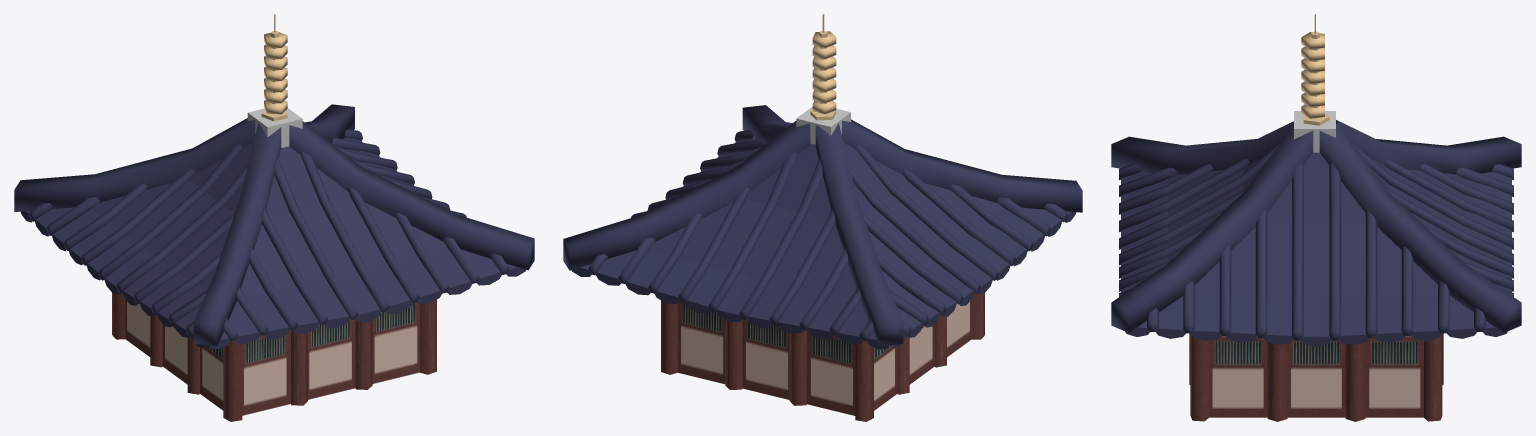
File: Building_Tower_Upper.fbx
3 renders of one model, left to right at view 1: azimuth 30°, elevation 25°; view 2: azimuth 150°, elevation 25°; view 3: azimuth 270°, elevation 25°, orthographic. The views are drawn at different scales.
Visible parts, largest first — view 1: Cube.134, Cube.139, Cube.135, Cube.137, Cube.136, Circle.145, Circle.136, Circle.175, Circle.135, Circle.146, Circle.148, Circle.137 (+19 smaller); view 2: Cube.134, Cube.139, Cube.138, Cube.136, Cube.137, Circle.175, Circle.146, Circle.155, Circle.156, Circle.145, Cylinder.055, Circle.147 (+21 smaller); view 3: Cube.134, Cube.139, Cube.138, Cube.135, Cube.137, Cube.136, Circle.166, Circle.165, Circle.175, Circle.135, Circle.156, Cylinder.054 (+23 smaller).
Part boxes in pixels (x1,y1,x2,y2): Cube.134: (26,137,517,339); Cube.139: (125,299,419,415); Cube.135: (289,121,534,270); Cube.137: (14,118,255,211); Cube.136: (194,122,281,346); Circle.145: (98,144,242,280); Circle.136: (300,152,389,312); Circle.175: (264,32,287,114); Circle.135: (274,158,358,319); Circle.146: (116,163,248,293); Circle.148: (81,169,195,265); Circle.137: (347,187,419,302); Cube.134: (580,138,1070,339); Cube.139: (677,300,971,415); Cube.138: (563,121,810,270); Cube.136: (842,119,1082,212); Cube.137: (815,123,903,346); Circle.175: (812,31,836,114); Circle.146: (854,145,998,280); Circle.155: (708,152,797,312); Circle.156: (739,159,822,319); Circle.145: (849,164,980,293); Cylinder.055: (855,341,873,421); Circle.147: (902,170,1015,266); Cube.134: (1121,152,1511,337); Cube.139: (1209,336,1423,417); Cube.138: (1319,123,1521,332); Cube.135: (1111,125,1313,332); Cube.137: (1336,120,1521,174); Cube.136: (1111,121,1293,174); Circle.166: (1329,163,1340,340); Circle.165: (1292,163,1303,340); Circle.175: (1301,32,1324,118); Circle.135: (1119,144,1279,249); Circle.156: (1353,144,1513,249); Cylinder.054: (1267,342,1287,421).
Bounding box in the file's own units: 210 × 200 × 210.
